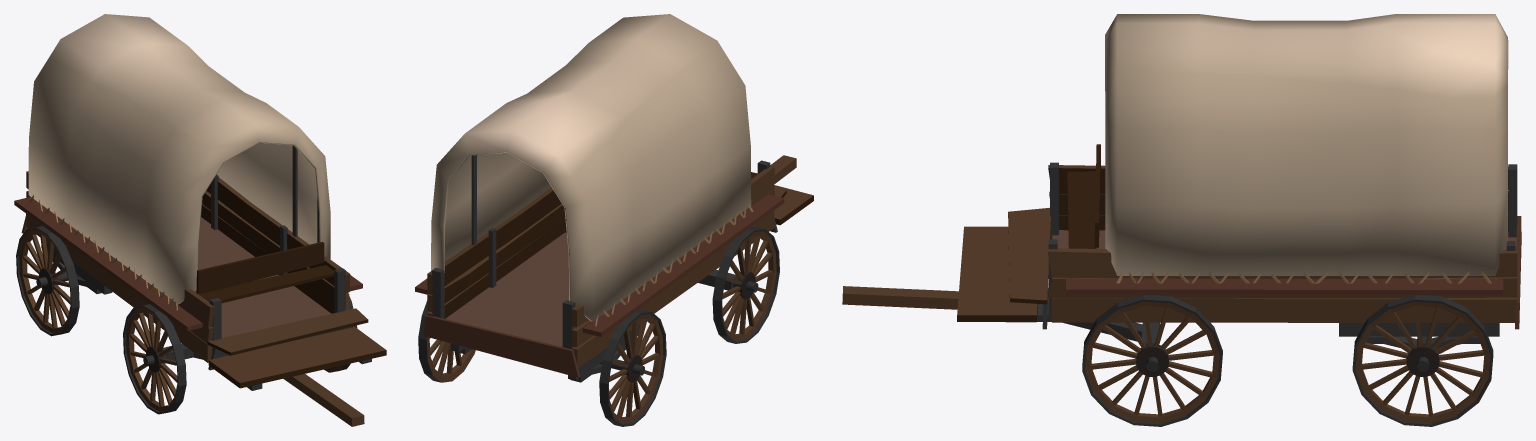
File: cart_big_closed.gltf
3 renders of one model, left to right at view 1: azimuth 30°, elevation 25°; view 2: azimuth 150°, elevation 25°; view 3: azimuth 270°, elevation 25°, orthographic. The views are drawn at different scales.
Parts seen in each view (by area): view 1: Cart Big size Closed; view 2: Cart Big size Closed; view 3: Cart Big size Closed.
Part boxes in pixels (bbox=[...]): Cart Big size Closed: bbox=[14, 14, 386, 426]; Cart Big size Closed: bbox=[415, 14, 813, 426]; Cart Big size Closed: bbox=[842, 14, 1521, 426].
Size of what is drawn, in the model's own units: 2.86 by 3.98 by 7.03.
Materials: 1 (1 with a texture image).
